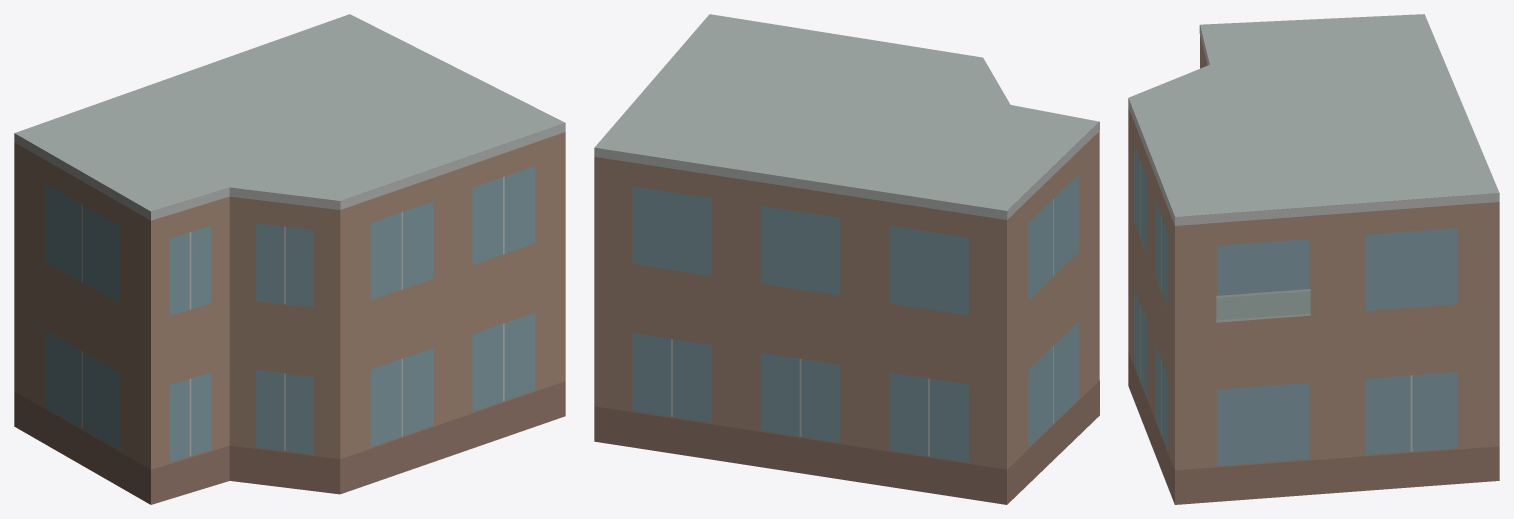
File: survey-upis-32726778.glb
The picture shows the model from 3 angles, left to right: view 1: azimuth 30°, elevation 25°; view 2: azimuth 150°, elevation 25°; view 3: azimuth 270°, elevation 25°; orthographic projection. The views are drawn at different scales.
Visible parts, largest first — view 1: survey-upis-32726778.tmp; view 2: survey-upis-32726778.tmp; view 3: survey-upis-32726778.tmp.
Boxes of the visible parts, x1,y1,x2,y2 form: survey-upis-32726778.tmp: [14, 14, 565, 504]; survey-upis-32726778.tmp: [594, 14, 1099, 504]; survey-upis-32726778.tmp: [1128, 14, 1499, 504].
Size of the model in its own units: 11.89 by 7.85 by 9.19.
